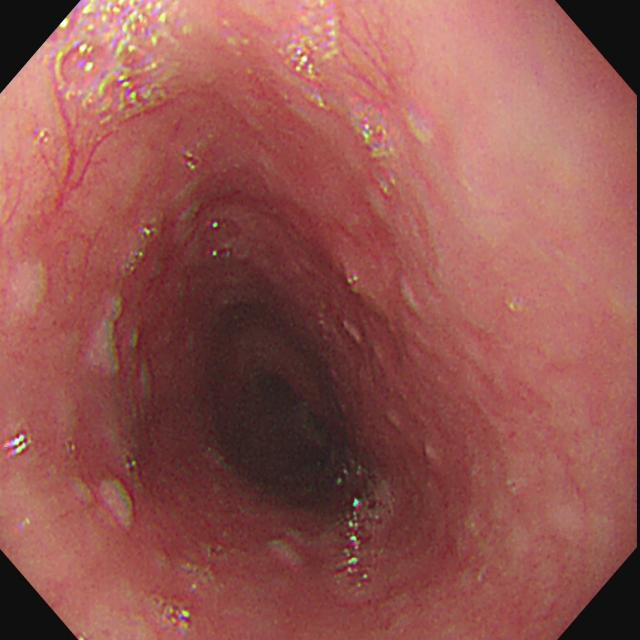E: (182, 295, 367, 518)
J: (88, 289, 161, 405), (70, 467, 141, 533)
T: (55, 2, 178, 121), (335, 465, 387, 589), (283, 2, 339, 79), (352, 101, 395, 160), (123, 213, 161, 274), (200, 218, 238, 262), (159, 598, 194, 634), (9, 419, 35, 465)
